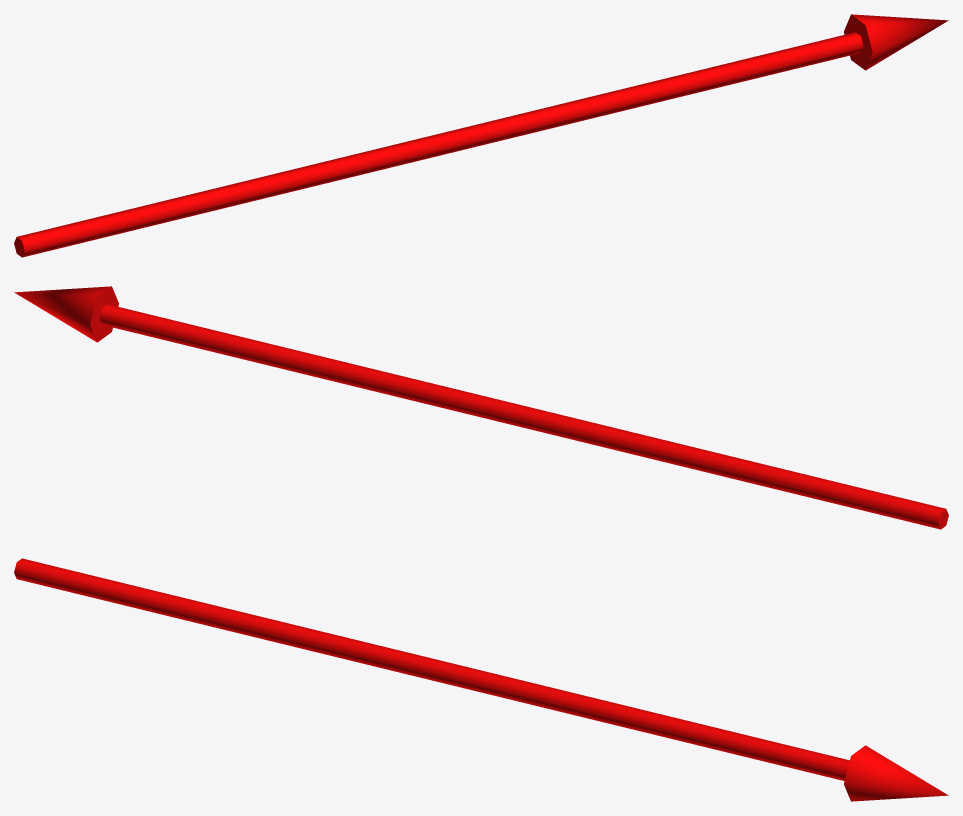
Rendered from Arrow.FBX.
3 renders of one model, top to bottom at view 1: azimuth 30°, elevation 25°; view 2: azimuth 150°, elevation 25°; view 3: azimuth 330°, elevation 25°, orthographic.
Parts seen in each view (by area): view 1: Arrow; view 2: Arrow; view 3: Arrow.
Part boxes in pixels (x1,y1,x2,y2): Arrow: (14, 14, 948, 257); Arrow: (14, 286, 948, 529); Arrow: (14, 558, 948, 801).
Size of the model in its own units: 50 by 2.35 by 2.71.
